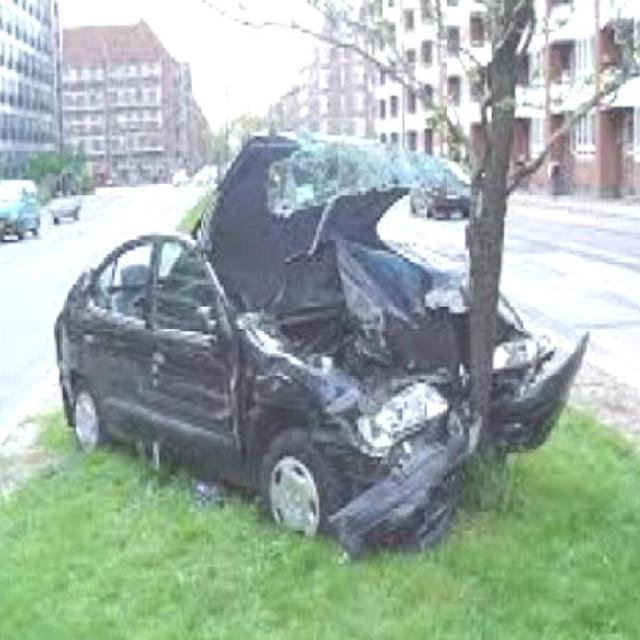accident: (38, 95, 544, 557)
